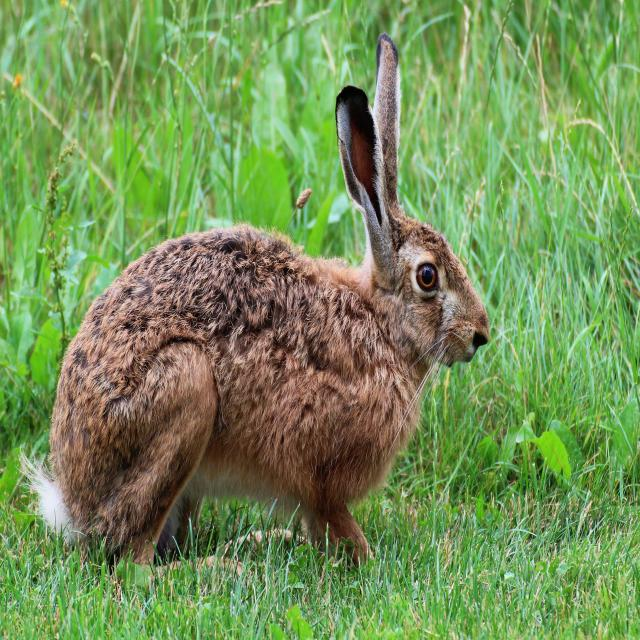Hare: (21, 29, 491, 563)
